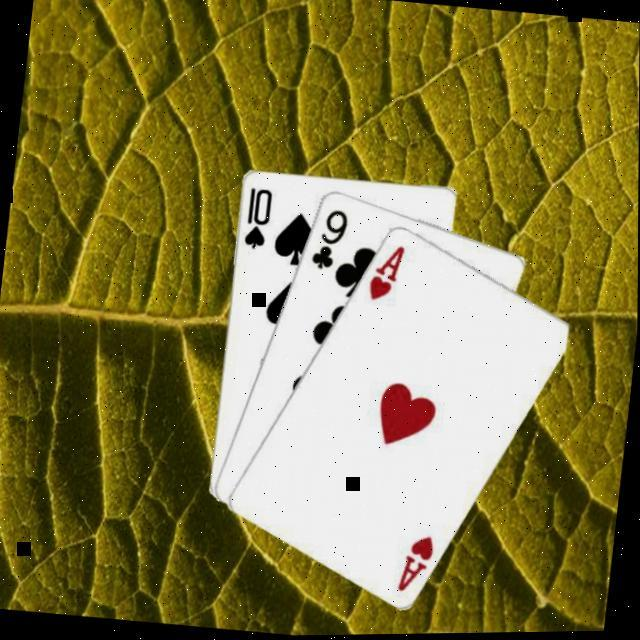10S: (240, 182, 275, 251)
9C: (307, 202, 353, 275)
AH: (394, 529, 438, 598), (365, 239, 409, 306)
